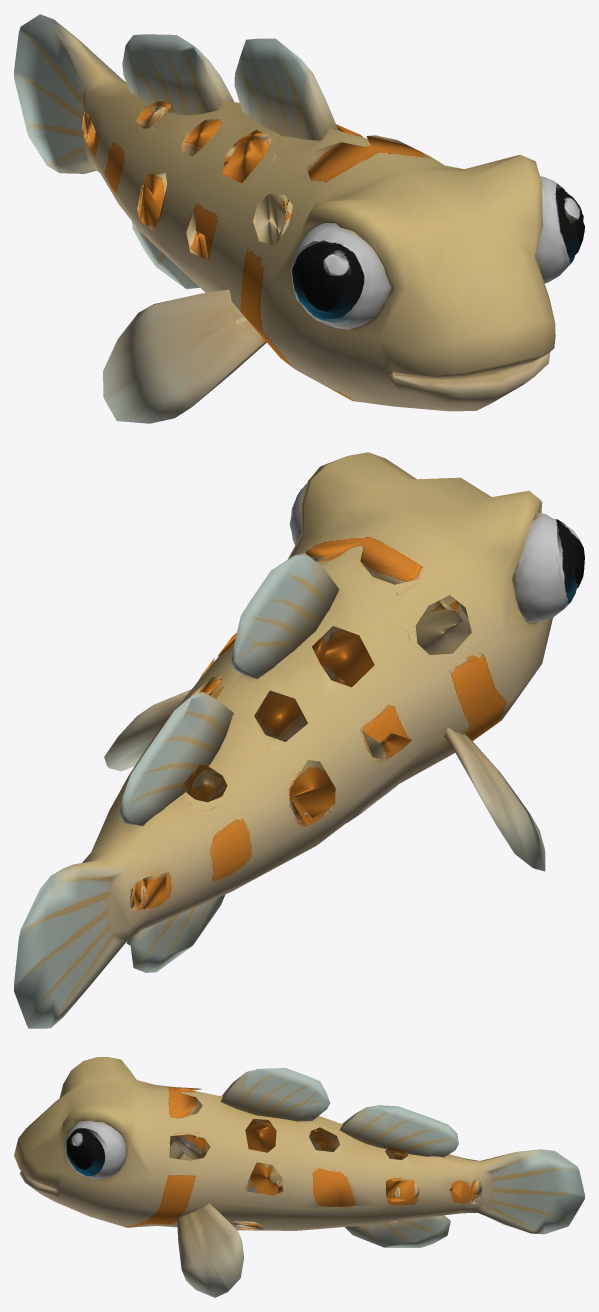
Rendered from goby_clean.glb.
The picture shows the model from 3 angles, top to bottom: view 1: azimuth 30°, elevation 25°; view 2: azimuth 150°, elevation 25°; view 3: azimuth 270°, elevation 25°; orthographic projection. The views are drawn at different scales.
Parts seen in each view (by area): view 1: tripo_node_a862f524-d7af-4ede-9225-3ba893bfaa1b.001; view 2: tripo_node_a862f524-d7af-4ede-9225-3ba893bfaa1b.001; view 3: tripo_node_a862f524-d7af-4ede-9225-3ba893bfaa1b.001.
Boxes of the visible parts, x1,y1,x2,y2 form: tripo_node_a862f524-d7af-4ede-9225-3ba893bfaa1b.001: (14,14,584,423); tripo_node_a862f524-d7af-4ede-9225-3ba893bfaa1b.001: (14,452,584,1028); tripo_node_a862f524-d7af-4ede-9225-3ba893bfaa1b.001: (14,1057,584,1297).
Size of the model in its own units: 0.5 by 0.35 by 1.
1 material, 1 textured.
